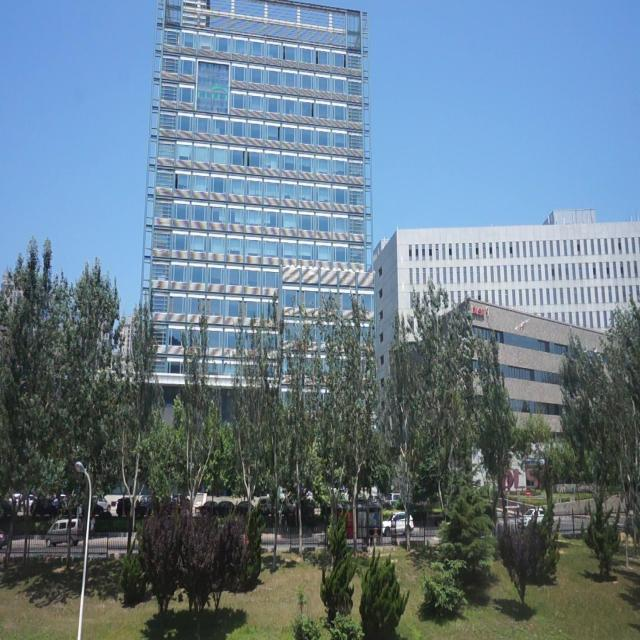drone: (513, 316, 529, 332)
